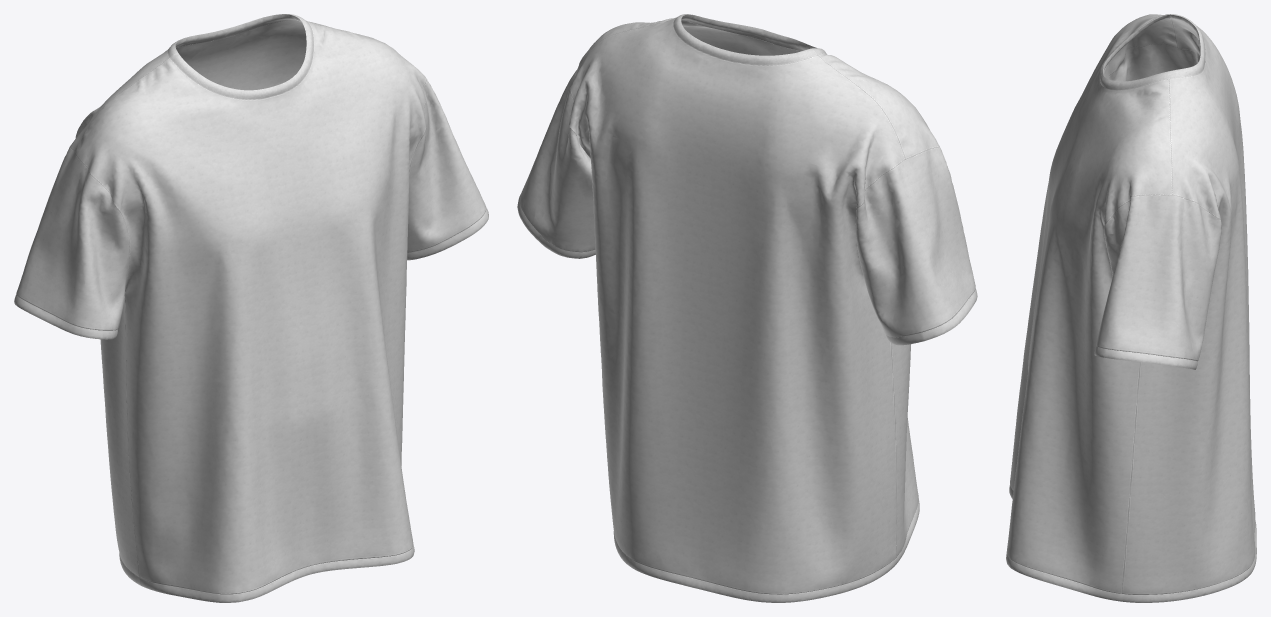
Rendered from tshirt.glb.
3 views of the same model, side by side, from view 1: azimuth 30°, elevation 25°; view 2: azimuth 150°, elevation 25°; view 3: azimuth 270°, elevation 25° (orthographic). The views are drawn at different scales.
Parts seen in each view (by area): view 1: Object_2; view 2: Object_2; view 3: Object_2.
Boxes of the visible parts, bbox=[...] form: Object_2: bbox=[14, 14, 488, 602]; Object_2: bbox=[517, 14, 977, 602]; Object_2: bbox=[1006, 14, 1256, 602].
Size of the model in its own units: 0.637 by 0.7108 by 0.3212.
1 material, 1 textured.
